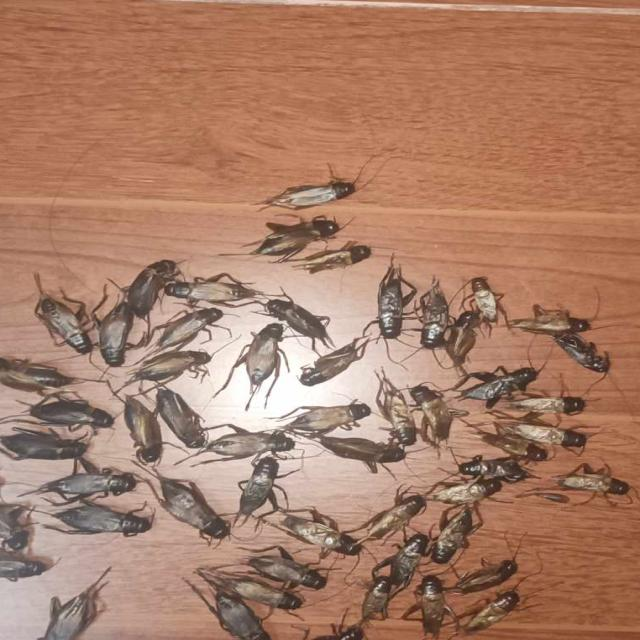egg: (37, 570, 108, 640), (160, 477, 229, 539), (230, 323, 285, 398), (251, 217, 341, 261), (285, 511, 362, 557), (36, 290, 92, 353), (52, 502, 152, 536), (248, 547, 327, 590), (125, 260, 180, 320), (461, 366, 538, 408), (360, 493, 426, 542), (318, 437, 406, 473), (35, 469, 137, 500), (401, 575, 450, 639), (511, 304, 591, 343), (155, 386, 206, 447), (262, 176, 356, 209), (376, 263, 416, 340), (167, 273, 260, 306), (202, 426, 295, 459), (282, 402, 371, 436), (30, 395, 113, 430), (214, 590, 272, 640), (133, 347, 211, 384), (376, 377, 416, 447), (428, 506, 475, 564), (0, 429, 87, 460), (0, 357, 73, 393), (410, 384, 454, 443), (123, 397, 162, 463), (97, 304, 134, 367), (417, 282, 450, 349), (513, 423, 588, 450), (433, 478, 501, 505), (0, 502, 33, 552), (0, 551, 53, 581), (509, 396, 585, 415)
no_egg: (197, 568, 303, 611), (298, 340, 367, 387), (152, 307, 223, 350), (265, 298, 329, 342), (380, 534, 429, 589), (459, 590, 521, 633), (238, 456, 279, 518), (298, 241, 372, 274), (556, 333, 610, 377), (443, 309, 483, 367), (557, 464, 629, 496), (454, 558, 517, 594), (458, 455, 527, 483), (465, 277, 502, 325), (360, 577, 391, 623), (305, 622, 365, 640)
